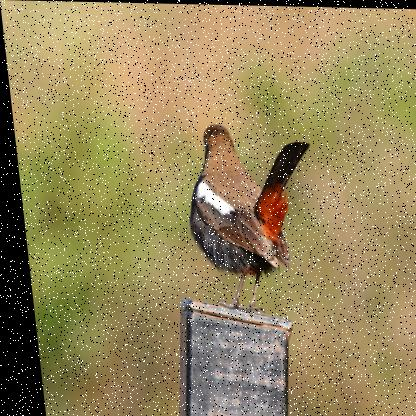Burung: (176, 121, 323, 318)
